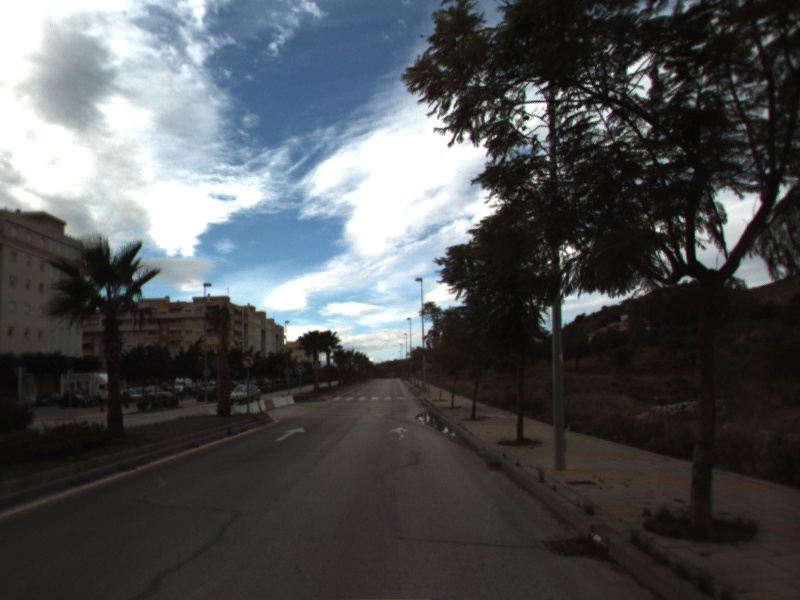STRAIGHT: (273, 425, 307, 443), (387, 424, 411, 442)
